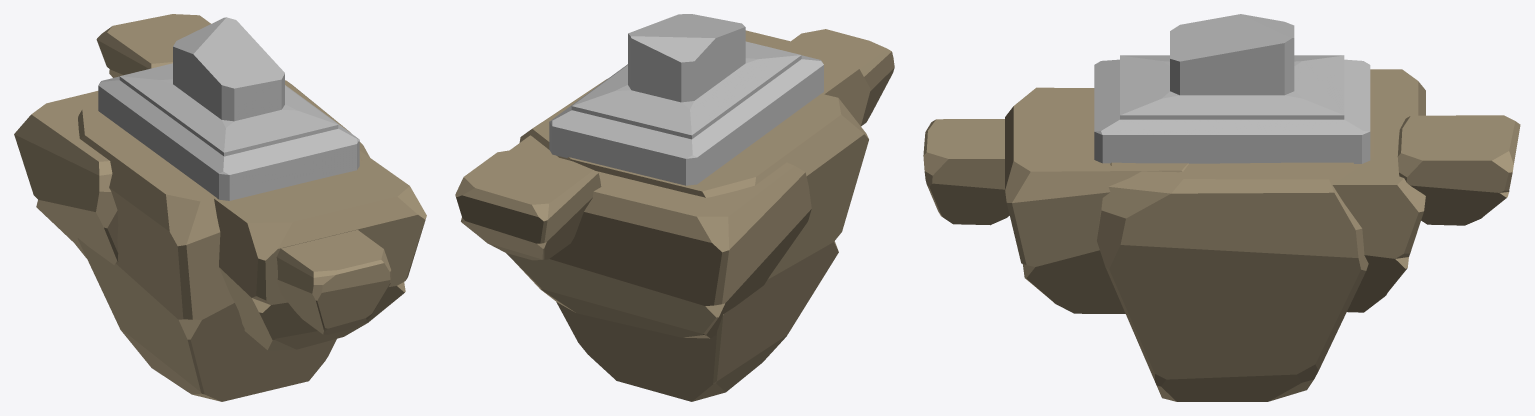
File: LowStoneGuardrailBroken.fbx
The picture shows the model from 3 angles, left to right: view 1: azimuth 30°, elevation 25°; view 2: azimuth 150°, elevation 25°; view 3: azimuth 270°, elevation 25°; orthographic projection. The views are drawn at different scales.
Parts seen in each view (by area): view 1: handrailbroken; view 2: handrailbroken; view 3: handrailbroken.
Part boxes in pixels (box(x1,y1,x2,y2)): handrailbroken: box(14, 14, 426, 401); handrailbroken: box(455, 14, 894, 401); handrailbroken: box(923, 14, 1520, 401).
Bounding box in the file's own units: 214 × 279 × 433.
